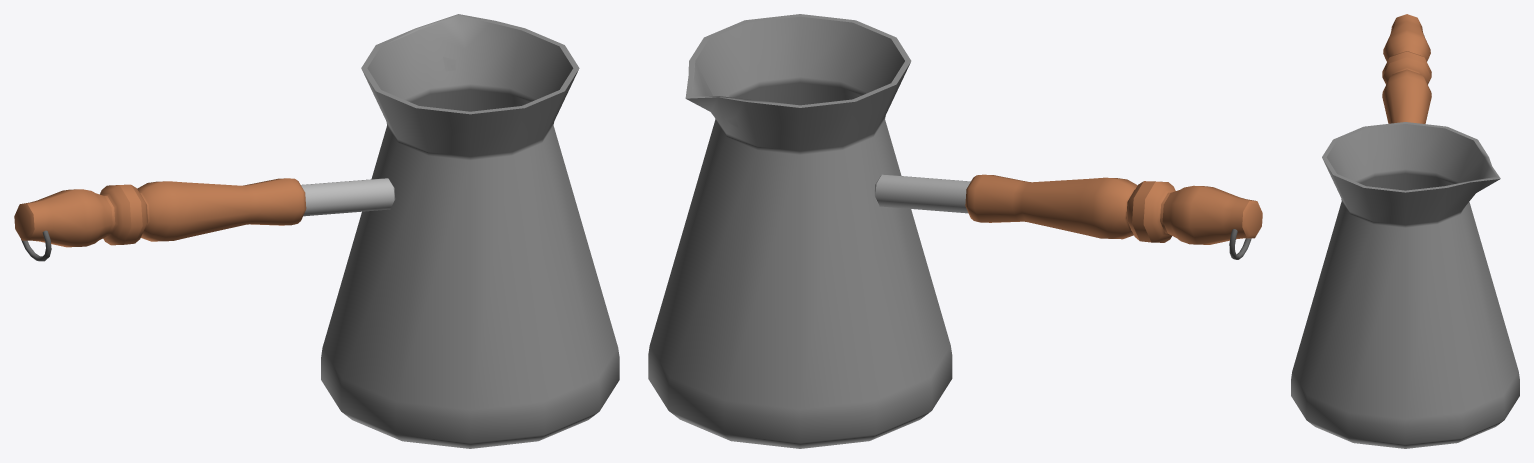
The model's file is turka.fbx.
3 views of the same model, side by side, from view 1: azimuth 30°, elevation 25°; view 2: azimuth 150°, elevation 25°; view 3: azimuth 270°, elevation 25° (orthographic). The views are drawn at different scales.
Visible parts, largest first — view 1: pCylinder1, pCylinder3, pCylinder2; view 2: pCylinder1, pCylinder3, pCylinder2; view 3: pCylinder1, pCylinder3.
Boxes of the visible parts, bbox=[...] form: pCylinder1: bbox=[321, 14, 619, 448]; pCylinder3: bbox=[14, 178, 306, 247]; pCylinder2: bbox=[301, 178, 395, 216]; pCylinder1: bbox=[648, 14, 952, 448]; pCylinder3: bbox=[965, 174, 1262, 244]; pCylinder2: bbox=[874, 174, 970, 213]; pCylinder1: bbox=[1291, 122, 1519, 448]; pCylinder3: bbox=[1382, 14, 1431, 123].
Size of the model in its own units: 0.864 by 0.4614 by 0.3863.
